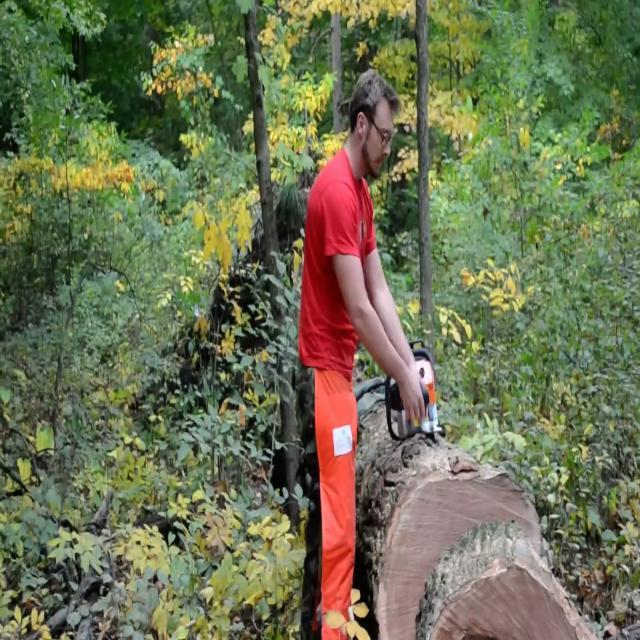Chainsaw: (385, 314, 453, 444)
